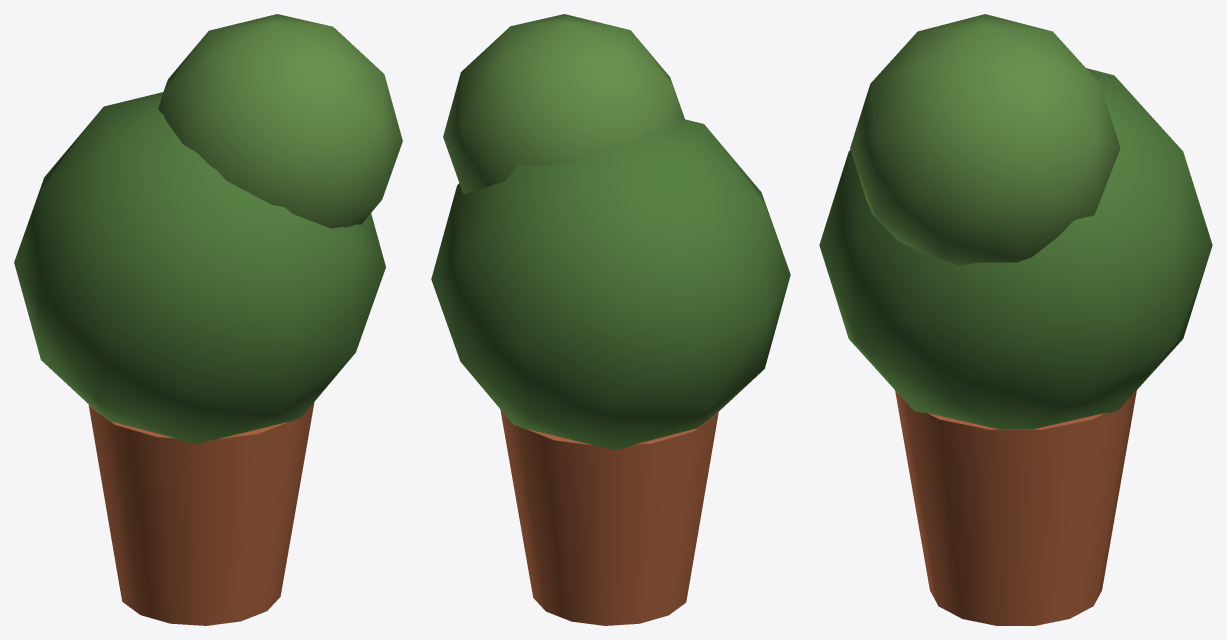
File: plant.glb
3 renders of one model, left to right at view 1: azimuth 30°, elevation 25°; view 2: azimuth 150°, elevation 25°; view 3: azimuth 270°, elevation 25°, orthographic. The views are drawn at different scales.
Visible parts, largest first — view 1: plant; view 2: plant; view 3: plant.
Boxes of the visible parts, bbox=[...] form: plant: bbox=[14, 14, 402, 625]; plant: bbox=[431, 14, 790, 625]; plant: bbox=[819, 14, 1212, 625].
Size of the model in its own units: 0.66 by 1.07 by 0.64.
